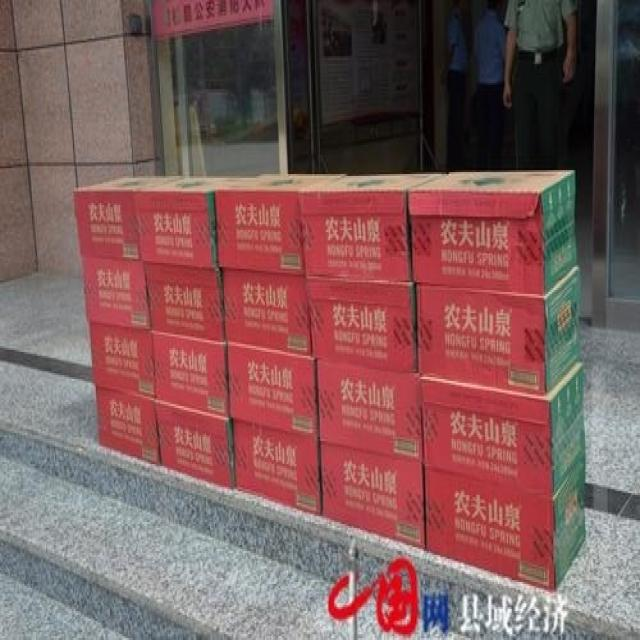box: (420, 360, 586, 495), (425, 458, 588, 592), (417, 265, 581, 396), (407, 170, 579, 294), (298, 172, 447, 282), (214, 172, 346, 276), (319, 445, 426, 551), (316, 360, 424, 462), (134, 176, 255, 267), (305, 278, 417, 373), (232, 422, 323, 518), (73, 176, 180, 257), (227, 342, 319, 435), (221, 271, 311, 356), (156, 398, 237, 491), (152, 331, 230, 418), (145, 263, 225, 340), (81, 257, 151, 329), (96, 387, 160, 464), (88, 325, 155, 396)
